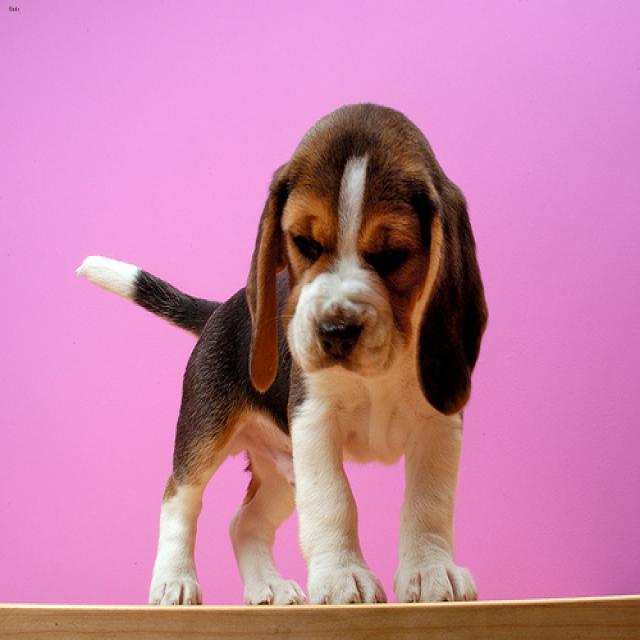dog-beagle: (64, 93, 497, 616)
